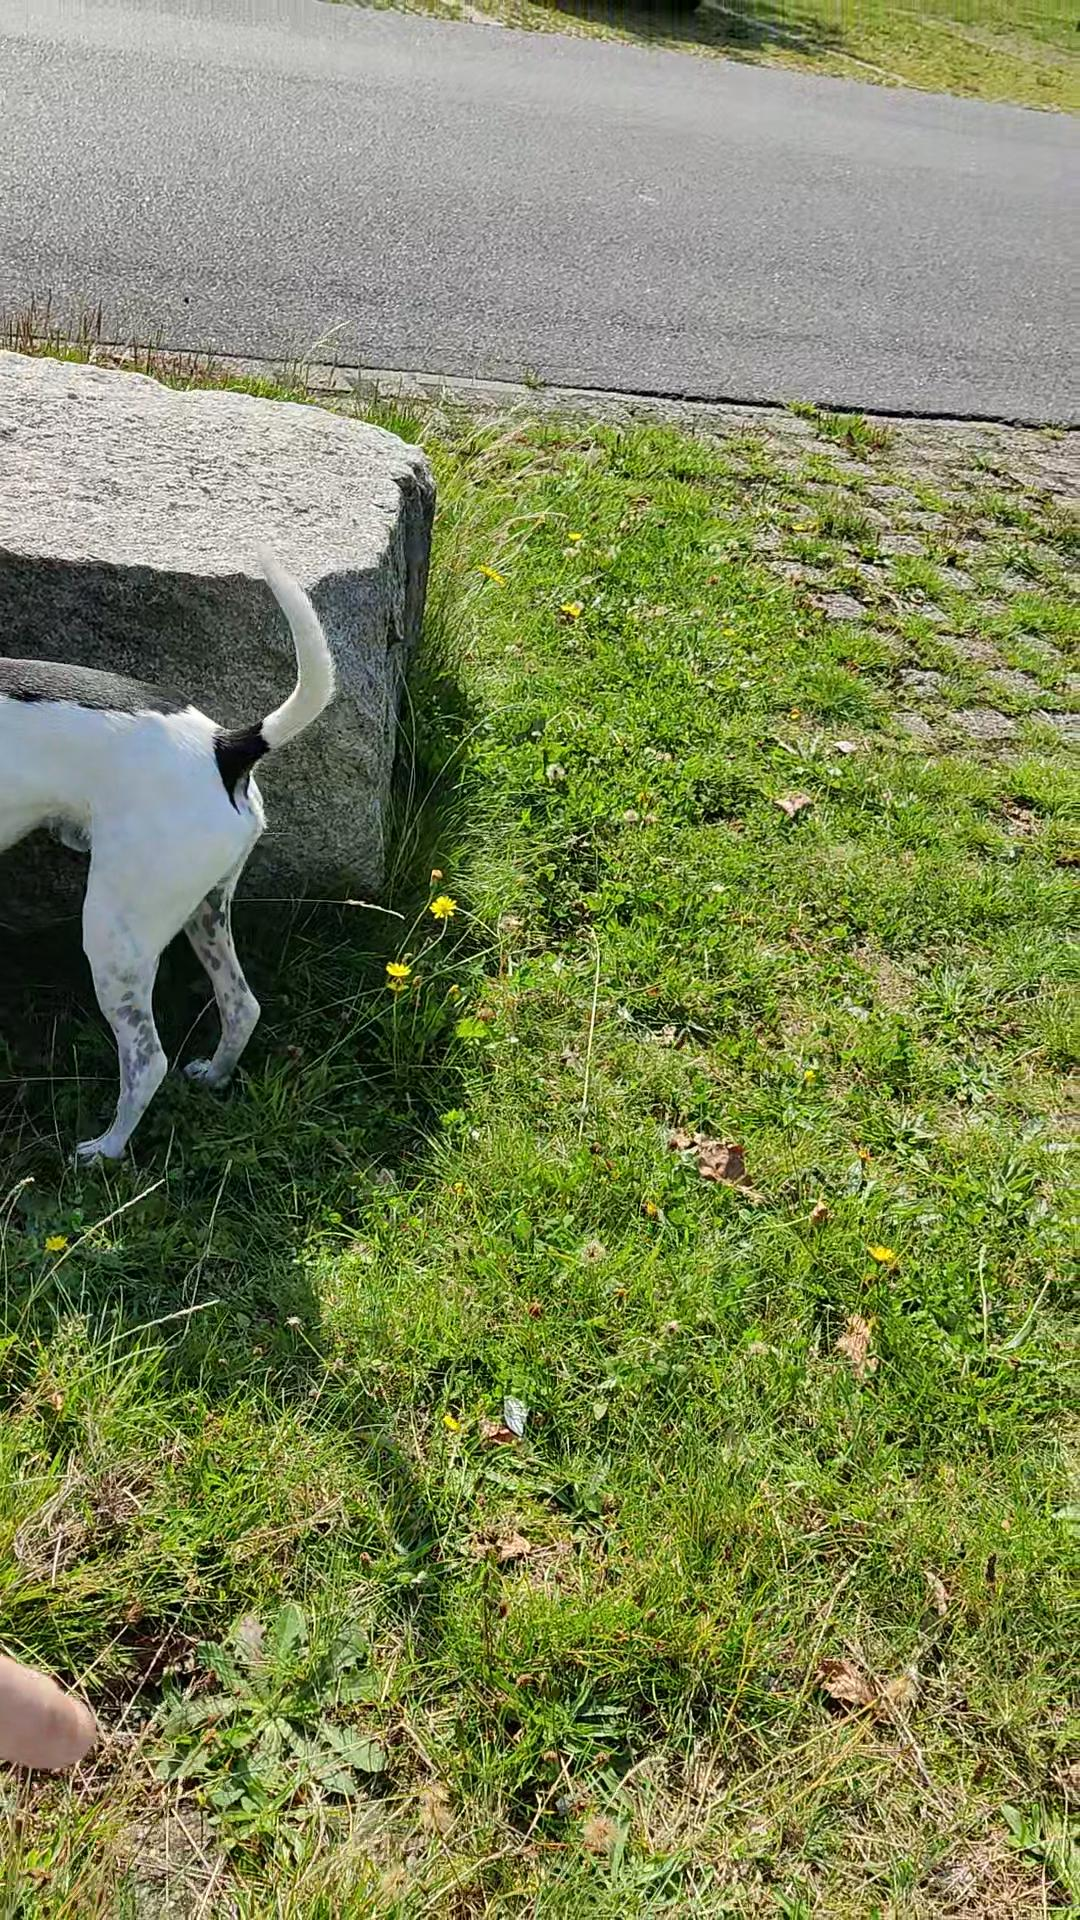Dog: (0, 542, 349, 1164)
